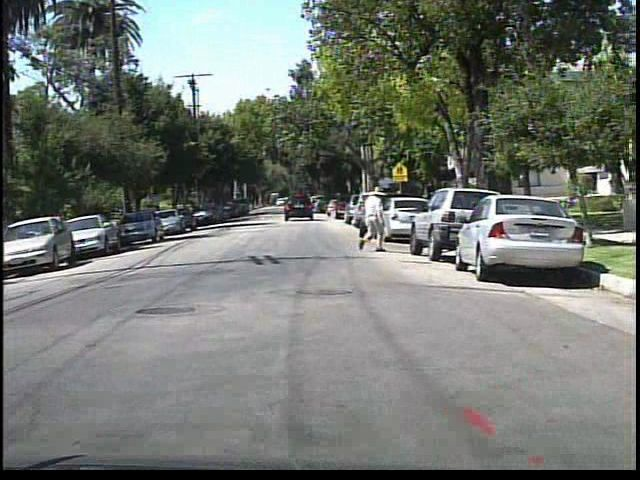person: (350, 184, 393, 255)
